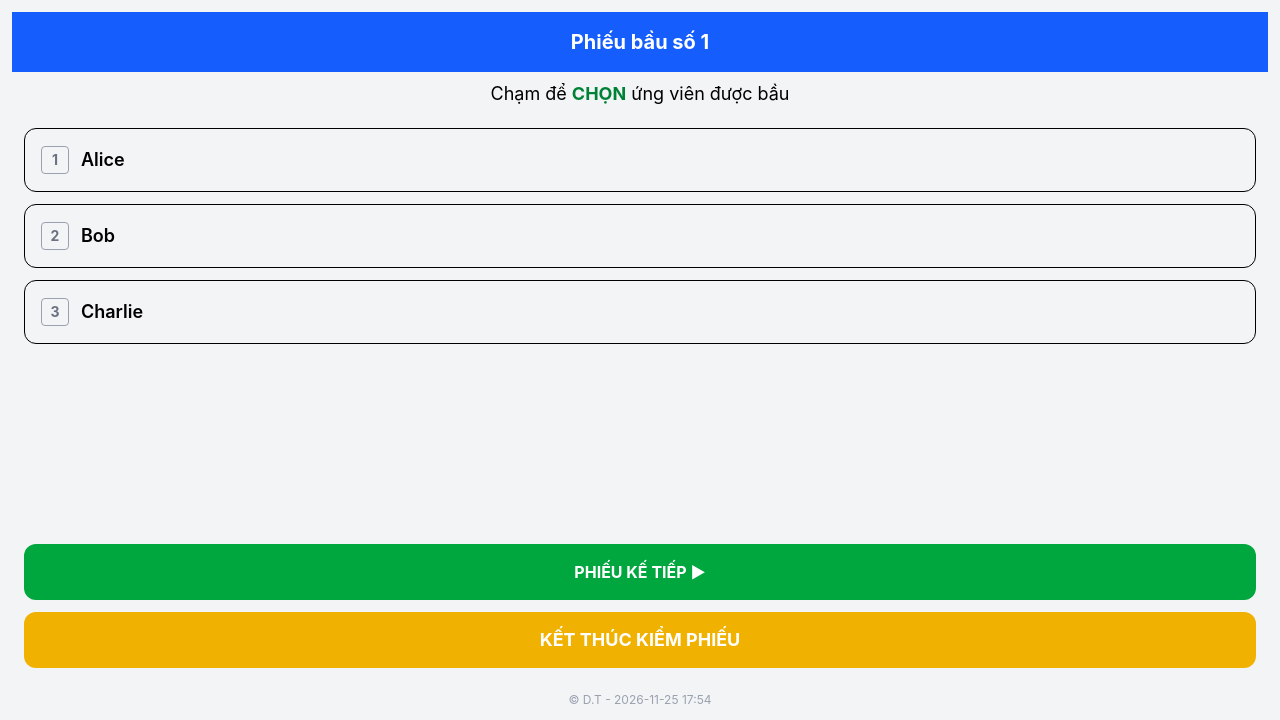
Test: Counting screen › advances to next ballot when at least one candidate is approved
The image size is (1280, 720).
Click the button "1 Alice". click: click(103, 160)
box: left=24, top=128, right=1256, bottom=192
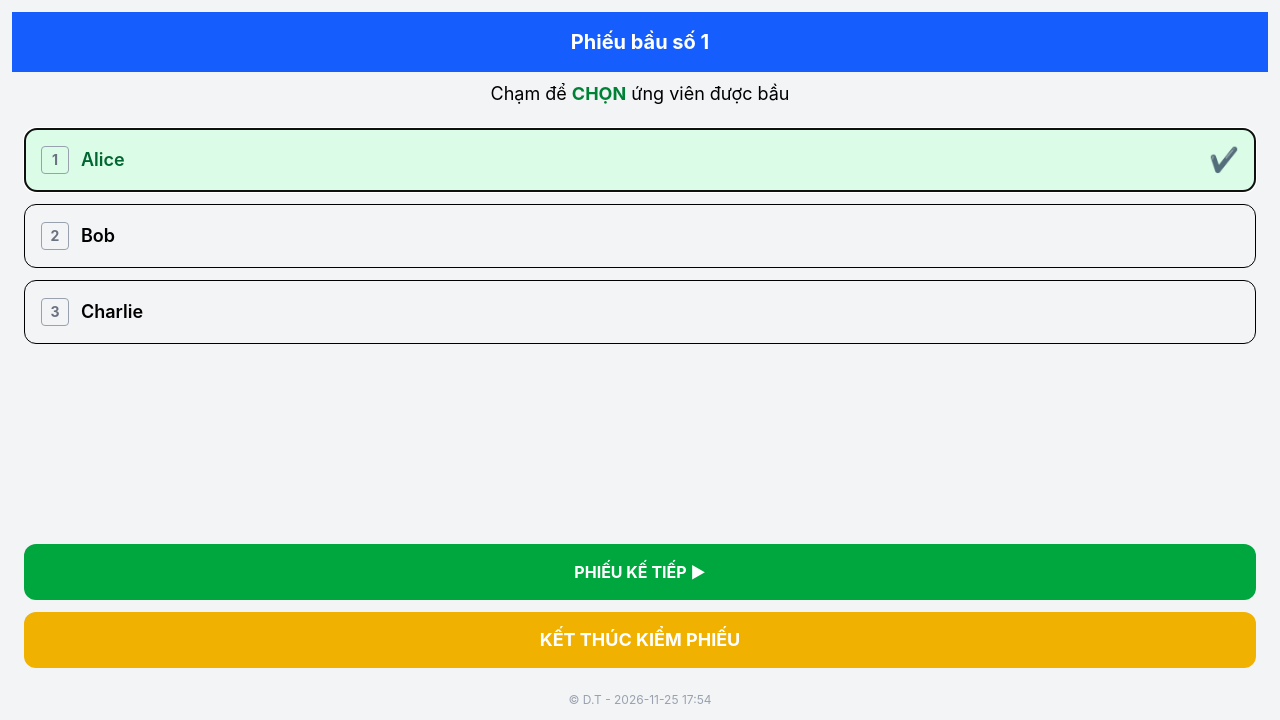
Click the button "PHIẾU KẾ TIẾP ▶". click: click(640, 572)
box: left=24, top=544, right=1256, bottom=600
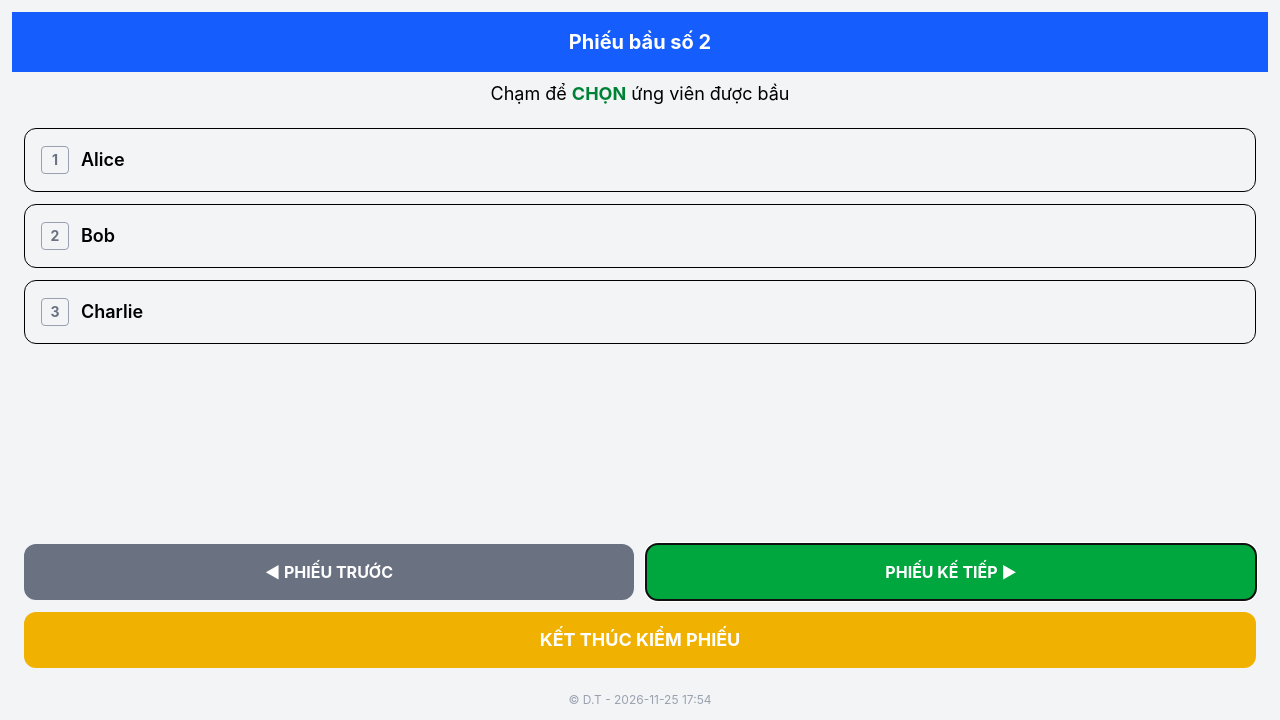
Expected: the text "Phiếu bầu số 2" is shown, left=12, top=12, right=1268, bottom=72
